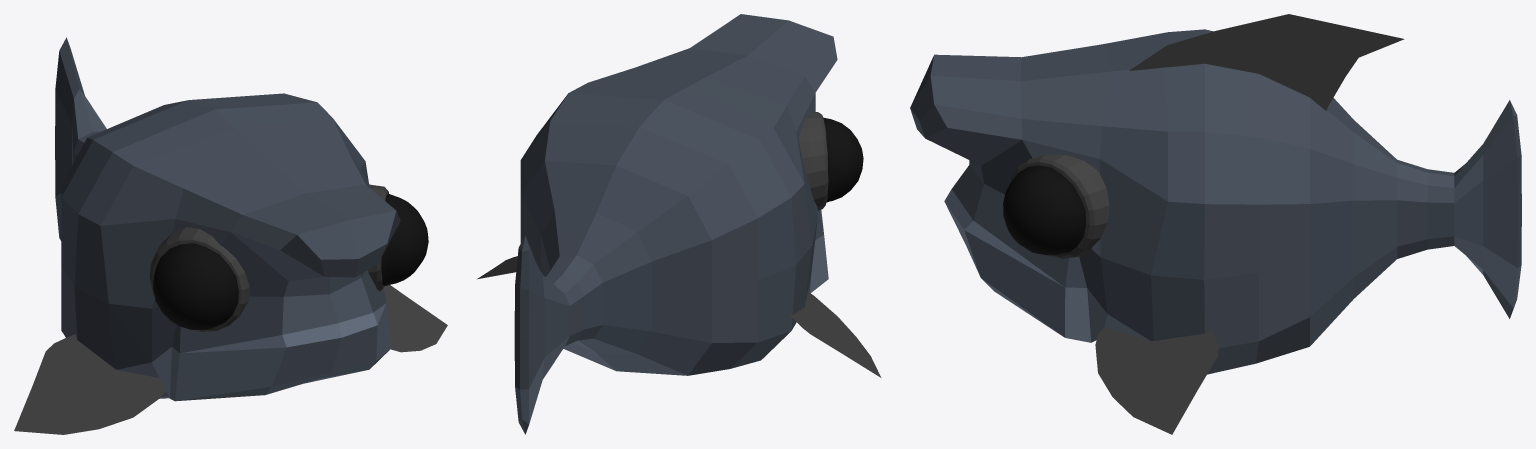
Rendered from Goblin Shark.glb.
The picture shows the model from 3 angles, left to right: view 1: azimuth 30°, elevation 25°; view 2: azimuth 150°, elevation 25°; view 3: azimuth 270°, elevation 25°; orthographic projection. The views are drawn at different scales.
Parts seen in each view (by area): view 1: Goblin Shark; view 2: Goblin Shark; view 3: Goblin Shark.
Boxes of the visible parts, box(x1,y1,x2,y2) form: Goblin Shark: box(14, 37, 447, 434); Goblin Shark: box(477, 14, 881, 434); Goblin Shark: box(910, 14, 1521, 434).
Size of the model in its own units: 0.4294 by 0.3037 by 0.5106.
